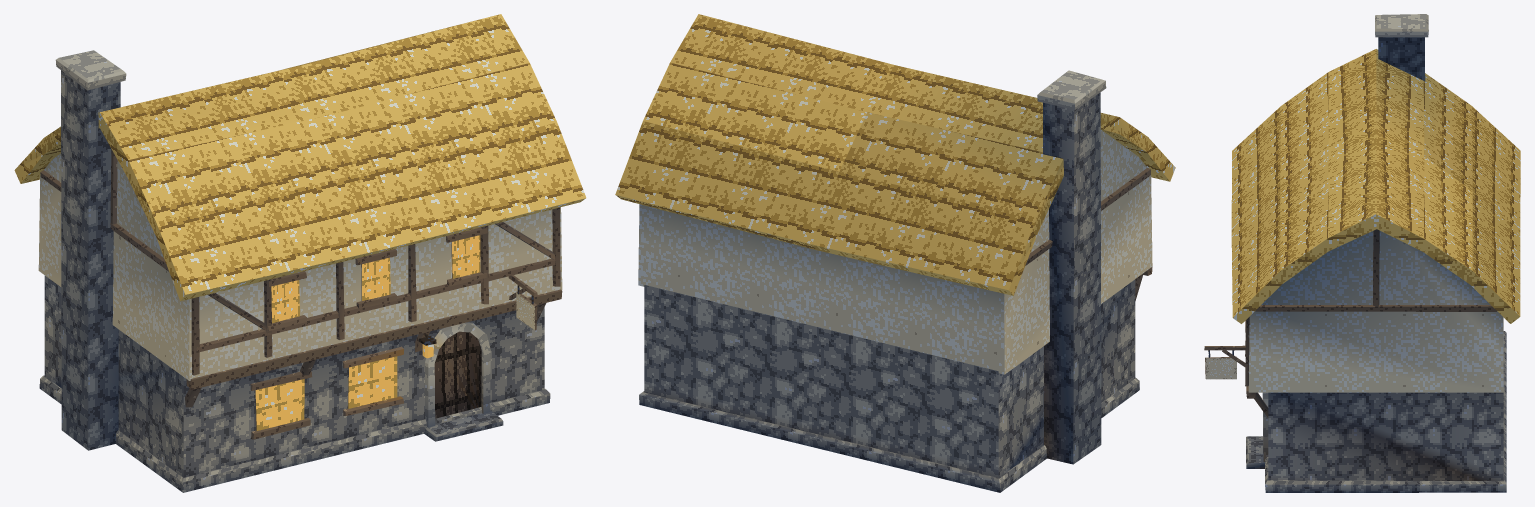
File: vlg.tavern__thatch.glb
3 views of the same model, side by side, from view 1: azimuth 30°, elevation 25°; view 2: azimuth 150°, elevation 25°; view 3: azimuth 270°, elevation 25° (orthographic). The views are drawn at different scales.
Parts seen in each view (by area): view 1: kit_roof, kit_walls, kit_stonework, kit_fittings, kit_frame; view 2: kit_walls, kit_roof, kit_stonework, kit_frame; view 3: kit_roof, kit_walls, kit_stonework, kit_frame, kit_fittings.
Part boxes in pixels (x1,y1,x2,y2): kit_roof: (14, 14, 586, 301); kit_walls: (38, 153, 562, 477); kit_stonework: (39, 50, 550, 492); kit_fittings: (250, 227, 537, 441); kit_frame: (40, 149, 562, 407); kit_walls: (638, 130, 1152, 477); kit_roof: (615, 14, 1175, 295); kit_stonework: (639, 70, 1139, 492); kit_frame: (1025, 168, 1152, 300); kit_roof: (1231, 49, 1520, 323); kit_walls: (1248, 231, 1503, 481); kit_stonework: (1265, 14, 1506, 492); kit_frame: (1245, 229, 1496, 417); kit_fittings: (1204, 320, 1268, 468).
Bounding box in the file's own units: 10.35 × 8.87 × 8.07.
Materials: 11 (11 with a texture image).
